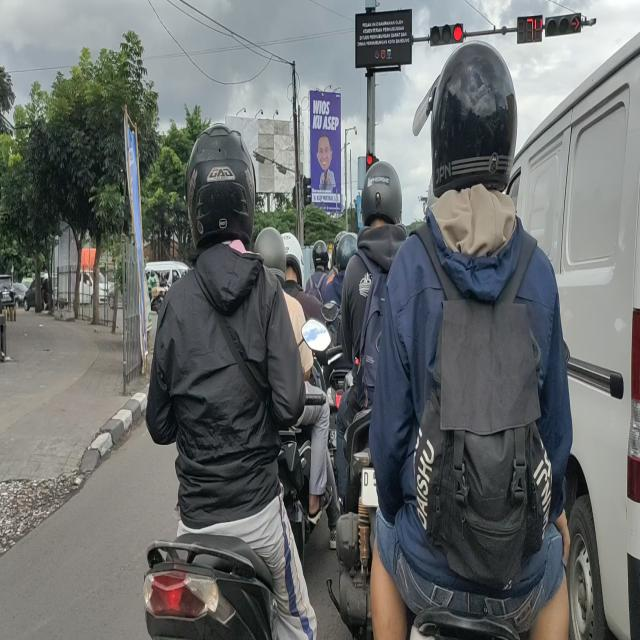helmet: (433, 46, 516, 192), (186, 126, 255, 236), (364, 164, 399, 223), (256, 228, 288, 273), (283, 236, 302, 275), (332, 238, 351, 267), (312, 242, 327, 271)
